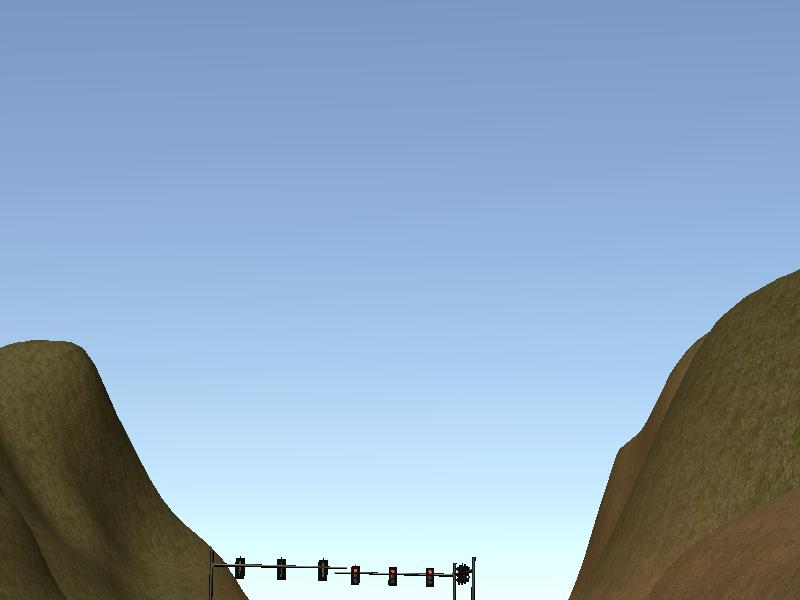Red: (424, 567, 434, 588), (351, 564, 360, 586), (387, 567, 398, 585)
